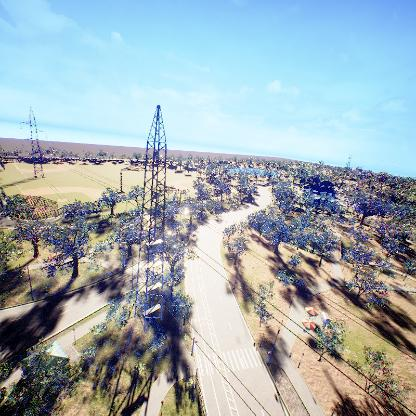tower: (118, 99, 188, 332)
